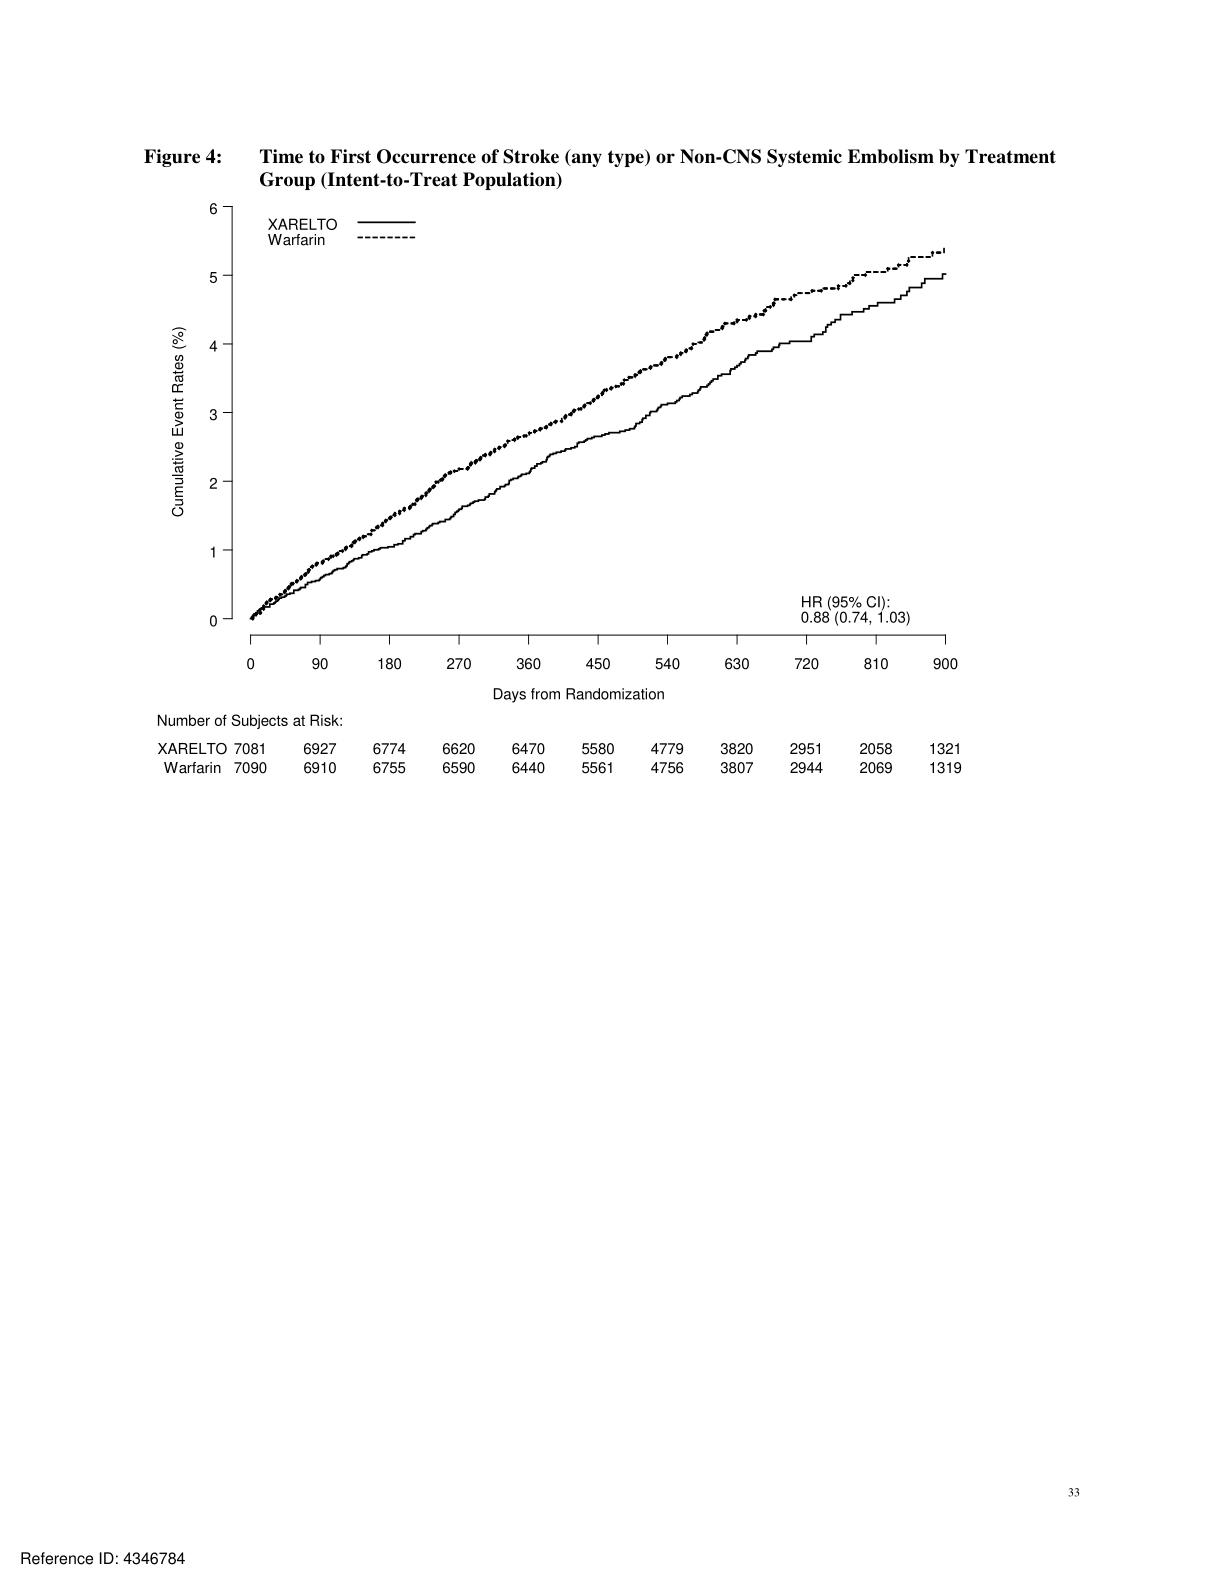nolines: (152, 741, 967, 778)
